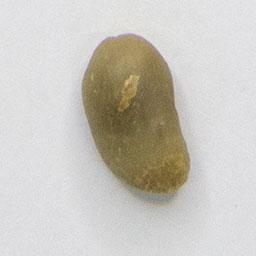longberry: (78, 28, 195, 200)
